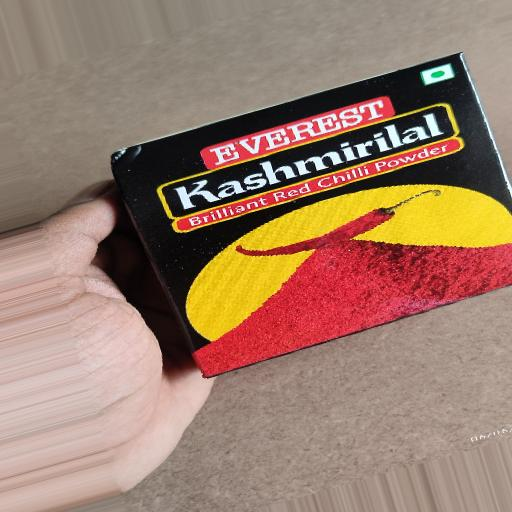Everest Kashmirilal: (89, 32, 511, 434)
